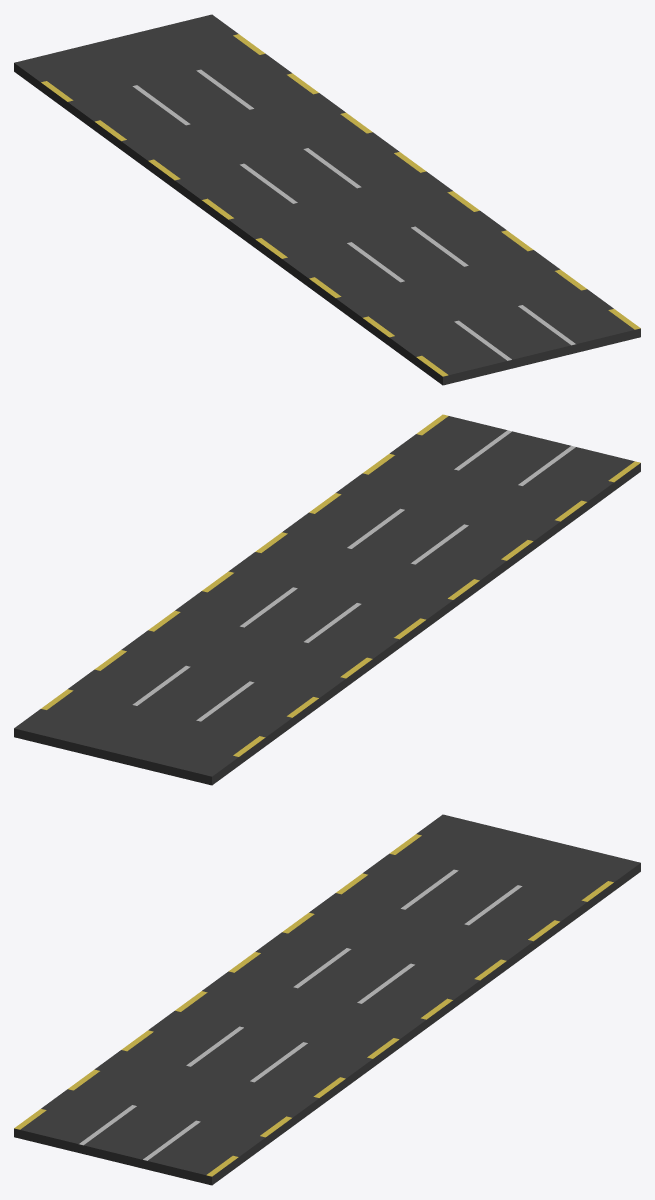
The model's file is Road.fbx.
3 renders of one model, top to bottom at view 1: azimuth 30°, elevation 25°; view 2: azimuth 150°, elevation 25°; view 3: azimuth 330°, elevation 25°, orthographic.
Parts seen in each view (by area): view 1: Cube; view 2: Cube; view 3: Cube.
Boxes of the visible parts, <box> form: Cube: <box>14,14,640,385</box>; Cube: <box>14,414,640,785</box>; Cube: <box>14,814,640,1185</box>.
Bounding box in the file's own units: 800 × 34.11 × 3000.
